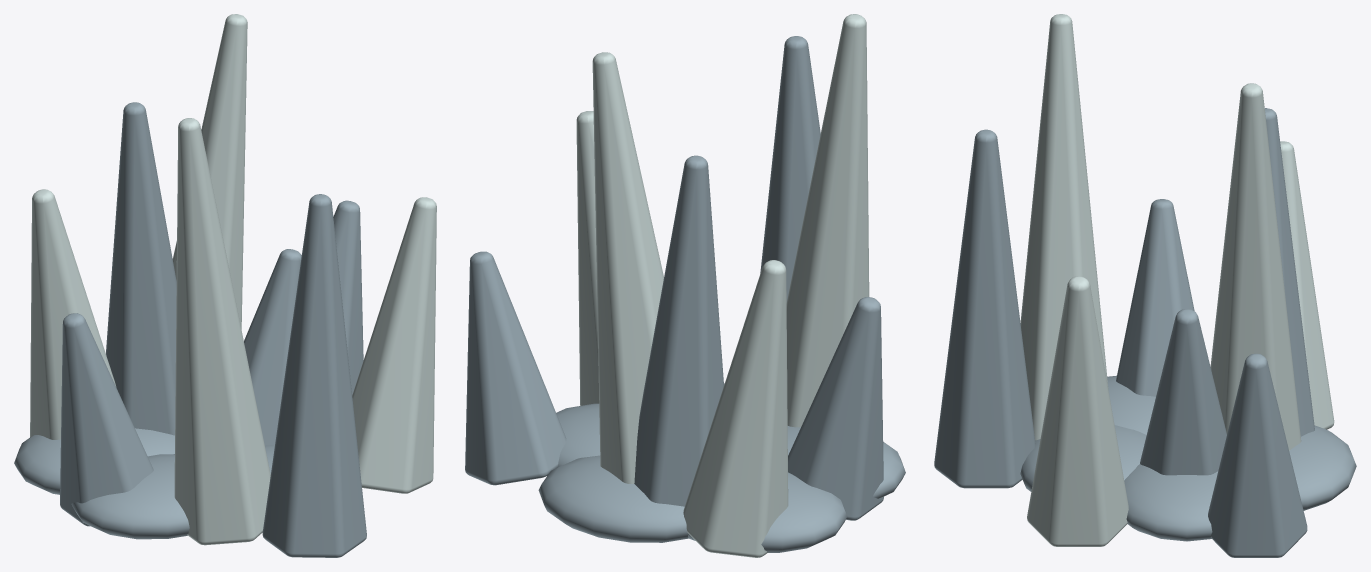
File: bio_crystal_fan_01_near.glb
The picture shows the model from 3 angles, left to right: view 1: azimuth 30°, elevation 25°; view 2: azimuth 150°, elevation 25°; view 3: azimuth 270°, elevation 25°; orthographic projection. The views are drawn at different scales.
Parts seen in each view (by area): view 1: Reflecting mineral prism.007, Reflecting mineral prism.002, Reflecting mineral prism.005, Reflecting mineral prism.006, Reflecting mineral prism.004, Reflecting mineral prism.001, Mineral substrate, Reflecting mineral prism.003, Reflecting mineral prism, Reflecting mineral prism.008; view 2: Reflecting mineral prism.007, Reflecting mineral prism.003, Reflecting mineral prism.006, Reflecting mineral prism.001, Reflecting mineral prism.008, Mineral substrate, Reflecting mineral prism.004, Reflecting mineral prism.002, Reflecting mineral prism.005; view 3: Reflecting mineral prism.002, Reflecting mineral prism.007, Reflecting mineral prism.005, Reflecting mineral prism.003, Reflecting mineral prism.008, Mineral substrate, Reflecting mineral prism, Reflecting mineral prism.004, Reflecting mineral prism.001, Reflecting mineral prism.006.
Boxes of the visible parts, x1,y1,x2,y2 form: Reflecting mineral prism.007: (174,118,270,545); Reflecting mineral prism.002: (262,194,366,557); Reflecting mineral prism.005: (352,197,436,493); Reflecting mineral prism.006: (106,102,176,435); Reflecting mineral prism.004: (60,313,153,526); Reflecting mineral prism.001: (30,189,116,439); Mineral substrate: (14,428,274,539); Reflecting mineral prism.003: (172,14,247,329); Reflecting mineral prism: (244,249,301,445); Reflecting mineral prism.008: (333,200,363,394); Reflecting mineral prism.007: (786,14,869,427); Reflecting mineral prism.003: (592,52,663,483); Reflecting mineral prism.006: (634,155,723,506); Reflecting mineral prism.001: (683,260,788,557); Reflecting mineral prism.008: (465,251,566,485); Mineral substrate: (538,383,905,552); Reflecting mineral prism.004: (788,297,883,520); Reflecting mineral prism.002: (760,36,820,301); Reflecting mineral prism.005: (576,111,599,405); Reflecting mineral prism.002: (934,129,1035,488); Reflecting mineral prism.007: (1020,14,1108,440); Reflecting mineral prism.005: (1027,276,1128,546); Reflecting mineral prism.003: (1210,83,1301,450); Reflecting mineral prism.008: (1208,353,1307,557); Mineral substrate: (1020,375,1356,541); Reflecting mineral prism: (1140,309,1226,475); Reflecting mineral prism.004: (1116,199,1194,396); Reflecting mineral prism.001: (1280,141,1334,429); Reflecting mineral prism.006: (1264,108,1314,436).
Size of the model in its own units: 1.45 by 1.73 by 1.55.
